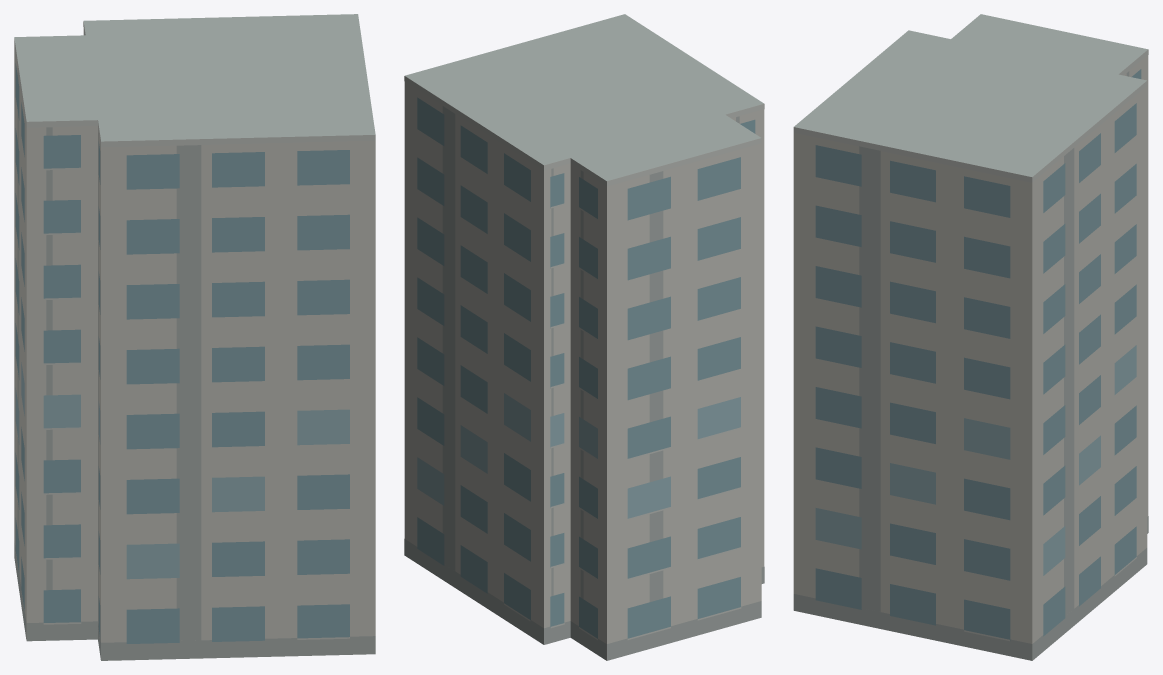
Rendered from survey-upis-32551329.glb.
The picture shows the model from 3 angles, left to right: view 1: azimuth 30°, elevation 25°; view 2: azimuth 150°, elevation 25°; view 3: azimuth 270°, elevation 25°; orthographic projection. The views are drawn at different scales.
Visible parts, largest first — view 1: survey-upis-32551329.tmp; view 2: survey-upis-32551329.tmp; view 3: survey-upis-32551329.tmp.
Part boxes in pixels (x1,y1,x2,y2): survey-upis-32551329.tmp: [14, 14, 375, 660]; survey-upis-32551329.tmp: [404, 14, 764, 660]; survey-upis-32551329.tmp: [793, 14, 1148, 660].
Bounding box in the file's own units: 15.35 × 21.2 × 14.1.
